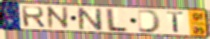D: (136, 8, 163, 34)
L: (106, 7, 130, 33)
N: (75, 6, 105, 32), (45, 5, 71, 30)
R: (20, 5, 47, 29)
T: (166, 10, 185, 34)
